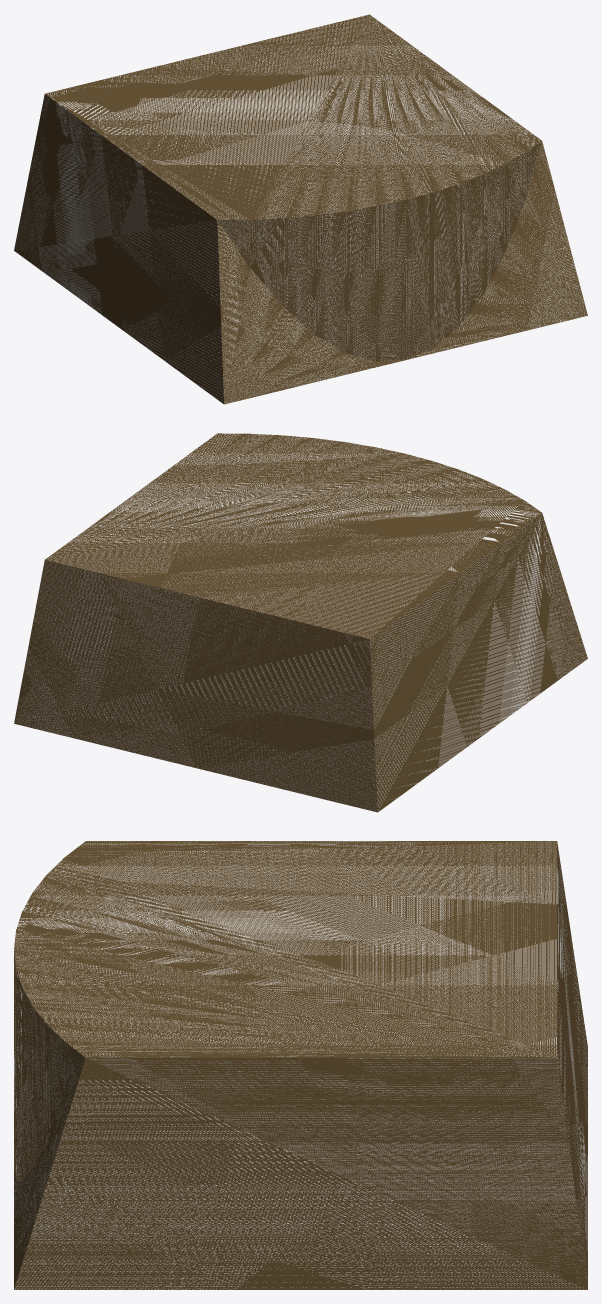
File: original-74.obj
The picture shows the model from 3 angles, top to bottom: view 1: azimuth 30°, elevation 25°; view 2: azimuth 150°, elevation 25°; view 3: azimuth 270°, elevation 25°; orthographic projection. The views are drawn at different scales.
Parts seen in each view (by area): view 1: Gray_Single_Keycap69/Gray_Single_Keycap/mesh8/mesh8-geometry#mes; view 2: Gray_Single_Keycap69/Gray_Single_Keycap/mesh8/mesh8-geometry#mes; view 3: Gray_Single_Keycap69/Gray_Single_Keycap/mesh8/mesh8-geometry#mes.
Part boxes in pixels (x1,y1,x2,y2): Gray_Single_Keycap69/Gray_Single_Keycap/mesh8/mesh8-geometry#mes: (14, 14, 587, 404); Gray_Single_Keycap69/Gray_Single_Keycap/mesh8/mesh8-geometry#mes: (14, 433, 587, 812); Gray_Single_Keycap69/Gray_Single_Keycap/mesh8/mesh8-geometry#mes: (14, 841, 587, 1289).
Size of the model in its own units: 0.0973 by 0.041 by 0.0973.
